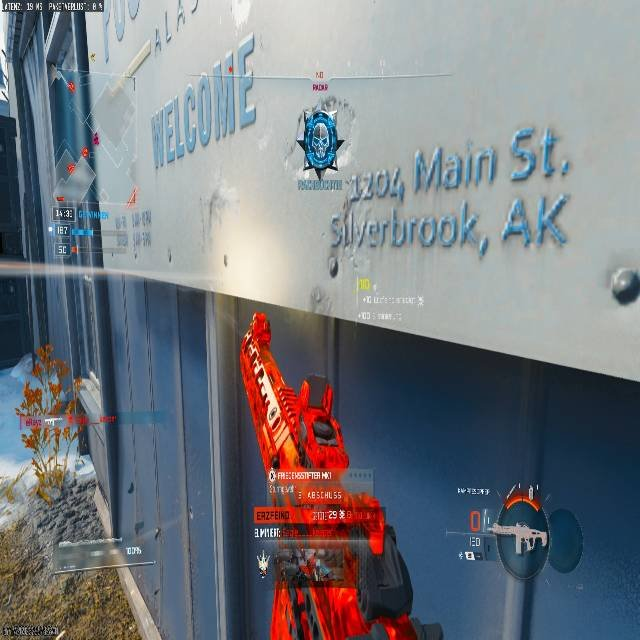player: (295, 97, 342, 176)
